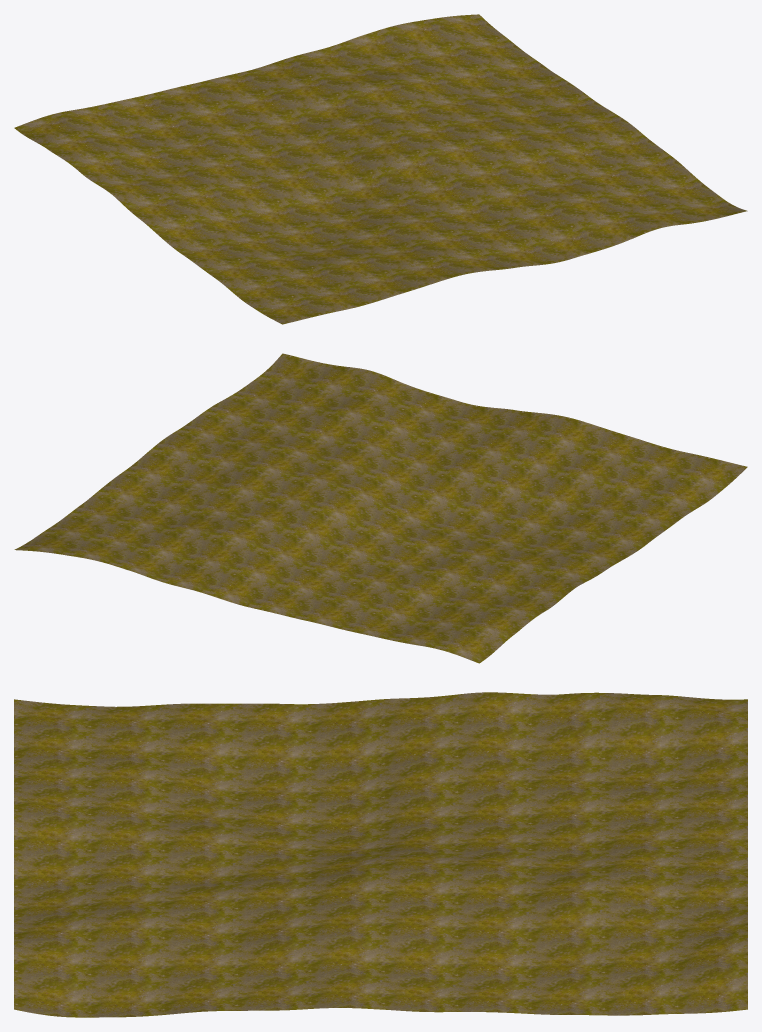
Rendered from grass.glb.
3 views of the same model, one above another, from view 1: azimuth 30°, elevation 25°; view 2: azimuth 150°, elevation 25°; view 3: azimuth 270°, elevation 25° (orthographic). The views are drawn at different scales.
Parts seen in each view (by area): view 1: Plane; view 2: Plane; view 3: Plane.
Part boxes in pixels (x1,y1,x2,y2): Plane: [14, 14, 747, 324]; Plane: [14, 353, 747, 663]; Plane: [14, 692, 747, 1017].
Bounding box in the file's own units: 300 × 12.95 × 300.
Materials: 1 (1 with a texture image).
